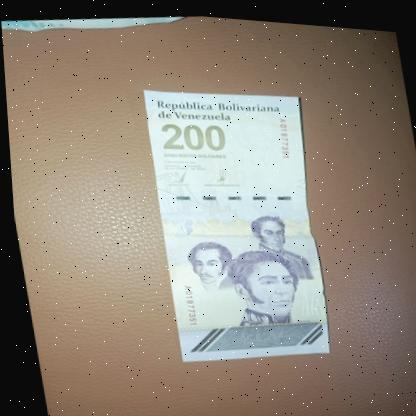two_hundred-front-vef: (133, 70, 339, 370)
